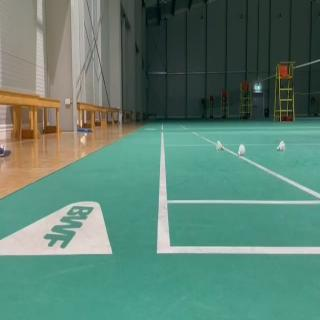Shuttle: (276, 138, 286, 152), (237, 143, 245, 156), (81, 130, 87, 146), (216, 140, 224, 151)
